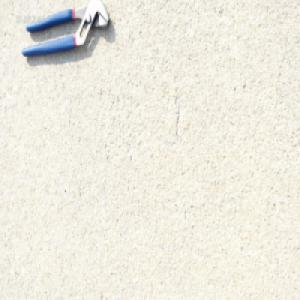Pliers: (20, 1, 111, 58)
